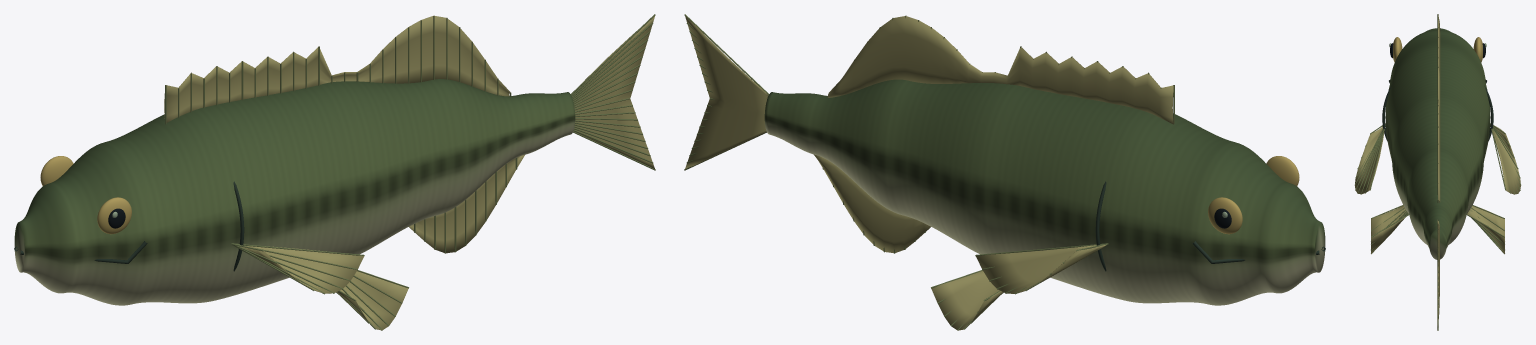
File: bass.glb
The picture shows the model from 3 angles, left to right: view 1: azimuth 30°, elevation 25°; view 2: azimuth 150°, elevation 25°; view 3: azimuth 270°, elevation 25°; orthographic projection. The views are drawn at different scales.
Parts seen in each view (by area): view 1: bass body, dorsal.001, caudal.001, anal.001, pectoral.002, pelvic.002, eye.002, eye.003; view 2: bass body, dorsal.001, caudal.001, anal.001, pectoral.003, pelvic.003, eye.003, eye.002; view 3: bass body, pectoral.002, pectoral.003, pelvic.002, pelvic.003, dorsal.001, caudal.001, eye.002, eye.003, gill cover.002, gill cover.003.
Part boxes in pixels (x1,y1,x2,y2): bass body: [14, 79, 575, 305]; dorsal.001: [164, 15, 510, 122]; caudal.001: [573, 16, 654, 168]; anal.001: [409, 155, 524, 253]; pectoral.002: [240, 245, 363, 293]; pelvic.002: [337, 271, 408, 330]; eye.002: [97, 197, 131, 234]; eye.003: [40, 156, 73, 185]; bass body: [764, 79, 1325, 305]; dorsal.001: [827, 16, 1173, 124]; caudal.001: [685, 16, 768, 168]; anal.001: [813, 154, 930, 253]; pectoral.003: [976, 244, 1106, 293]; pelvic.003: [931, 271, 1003, 330]; eye.003: [1208, 197, 1242, 234]; eye.002: [1266, 156, 1299, 185]; bass body: [1385, 28, 1490, 259]; pectoral.002: [1355, 126, 1384, 194]; pectoral.003: [1492, 125, 1520, 194]; pelvic.002: [1371, 205, 1408, 253]; pelvic.003: [1467, 205, 1504, 253]; dorsal.001: [1438, 15, 1440, 202]; caudal.001: [1437, 220, 1439, 329]; eye.002: [1393, 37, 1402, 62]; eye.003: [1473, 37, 1482, 62]; gill cover.002: [1382, 85, 1391, 141]; gill cover.003: [1484, 85, 1493, 141].
Size of the model in its own units: 2.41 by 0.935 by 0.7633.
